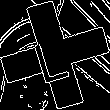L_N: (33, 26, 77, 84)
